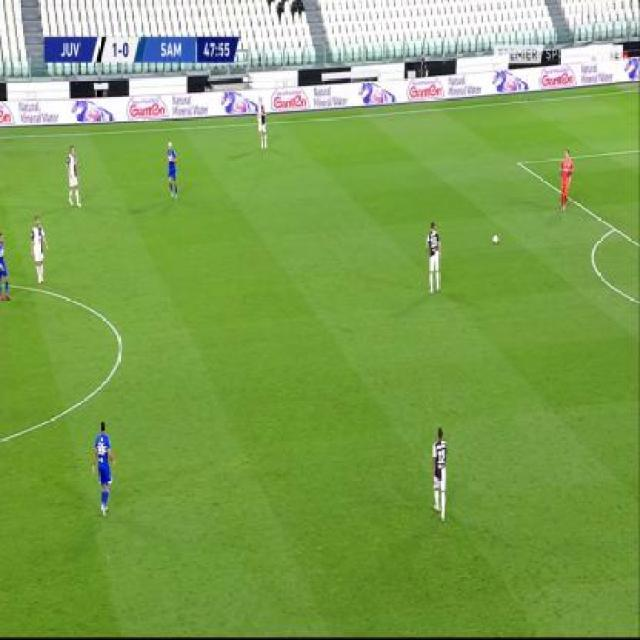ball: (492, 231, 500, 247)
player: (92, 416, 117, 516), (429, 423, 451, 520), (425, 220, 444, 294), (30, 213, 49, 284), (557, 147, 574, 212), (65, 144, 82, 207), (0, 228, 11, 304), (166, 138, 179, 200), (256, 95, 269, 149)
